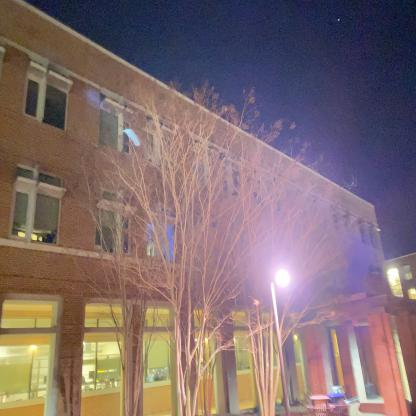eb2: (1, 0, 393, 398)
